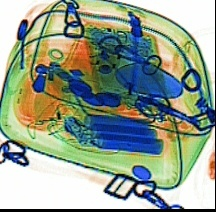powerbank: (62, 109, 166, 157)
